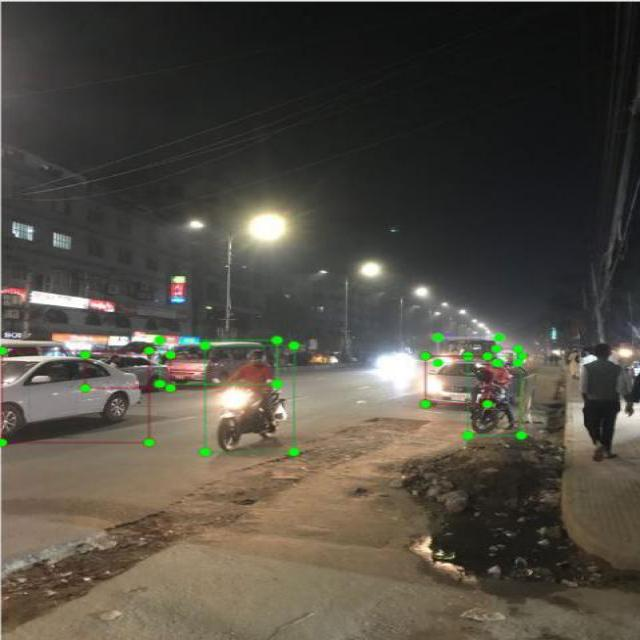bus: (436, 336, 496, 360)
car: (0, 349, 147, 441), (423, 354, 484, 402), (84, 354, 168, 386)
motorbike: (202, 344, 290, 450), (466, 354, 518, 434)
three wheelers -CNG-: (494, 348, 514, 360)
van: (158, 338, 274, 382)
